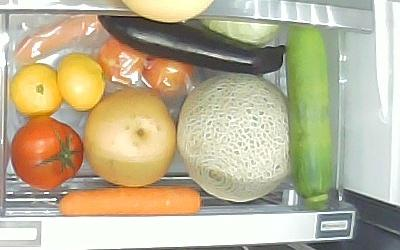cabbage: (203, 19, 279, 46)
carrot: (59, 187, 200, 215)
carrot_vinyl: (14, 14, 99, 64)
eggplant: (98, 16, 286, 75)
melon: (176, 73, 289, 202)
pear: (83, 89, 177, 186)
prune_vinyl: (98, 37, 146, 87), (144, 56, 192, 96)
tangerine: (9, 63, 65, 116), (58, 53, 105, 111)
tomato: (11, 116, 85, 191)
zucchini: (288, 27, 332, 209)
